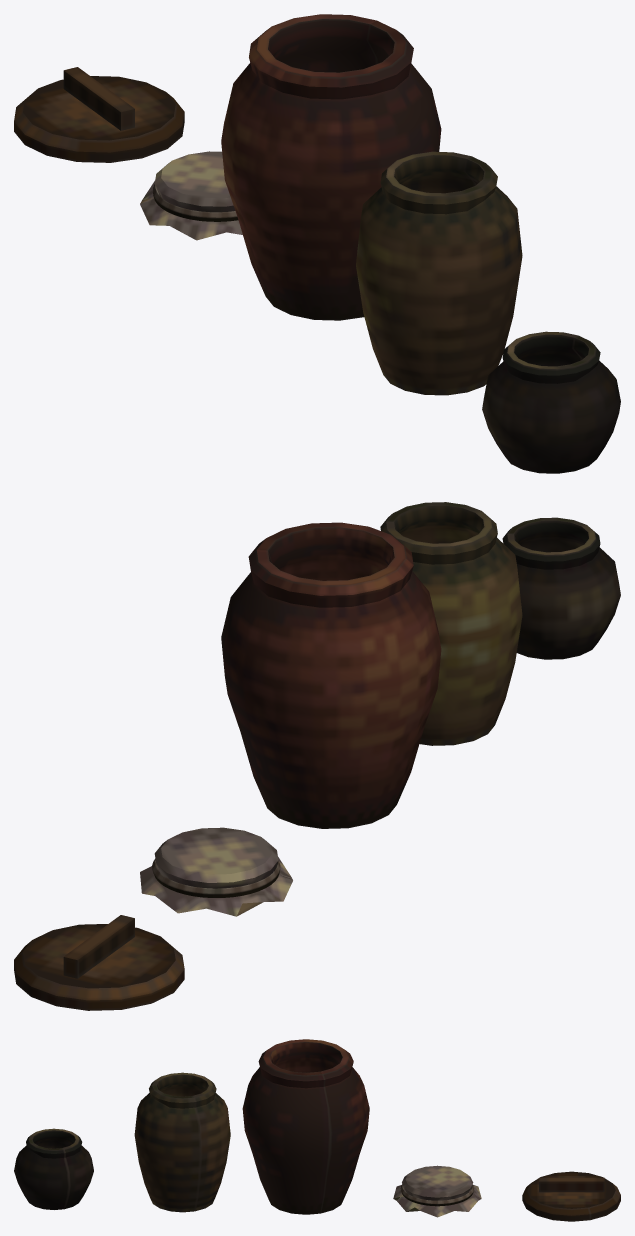
File: EnvObjMD_Vase_C_L.FBX
3 views of the same model, one above another, from view 1: azimuth 30°, elevation 25°; view 2: azimuth 150°, elevation 25°; view 3: azimuth 270°, elevation 25° (orthographic). The views are drawn at different scales.
Parts seen in each view (by area): view 1: EnvObjMD_Vase_C_L, EnvObjMD_Vase_C_M, EnvObjMD_Vase_C_S, EnvObjMD_Vase_C_Lid_Wood, EnvObjMD_Vase_C_Lid_Cloth; view 2: EnvObjMD_Vase_C_L, EnvObjMD_Vase_C_M, EnvObjMD_Vase_C_S, EnvObjMD_Vase_C_Lid_Wood, EnvObjMD_Vase_C_Lid_Cloth; view 3: EnvObjMD_Vase_C_L, EnvObjMD_Vase_C_M, EnvObjMD_Vase_C_S, EnvObjMD_Vase_C_Lid_Wood, EnvObjMD_Vase_C_Lid_Cloth.
Part boxes in pixels (x1,y1,x2,y2): EnvObjMD_Vase_C_L: [221, 14, 441, 320]; EnvObjMD_Vase_C_M: [356, 151, 522, 395]; EnvObjMD_Vase_C_S: [482, 331, 620, 473]; EnvObjMD_Vase_C_Lid_Wood: [14, 67, 184, 162]; EnvObjMD_Vase_C_Lid_Cloth: [140, 151, 242, 240]; EnvObjMD_Vase_C_L: [221, 522, 441, 828]; EnvObjMD_Vase_C_M: [380, 502, 522, 745]; EnvObjMD_Vase_C_S: [502, 517, 620, 659]; EnvObjMD_Vase_C_Lid_Wood: [14, 915, 184, 1010]; EnvObjMD_Vase_C_Lid_Cloth: [140, 827, 292, 916]; EnvObjMD_Vase_C_L: [242, 1039, 369, 1214]; EnvObjMD_Vase_C_M: [134, 1072, 230, 1212]; EnvObjMD_Vase_C_S: [14, 1128, 93, 1209]; EnvObjMD_Vase_C_Lid_Wood: [522, 1171, 620, 1221]; EnvObjMD_Vase_C_Lid_Cloth: [393, 1165, 481, 1217].
Bounding box in the file's own units: 102 × 127 × 485.
